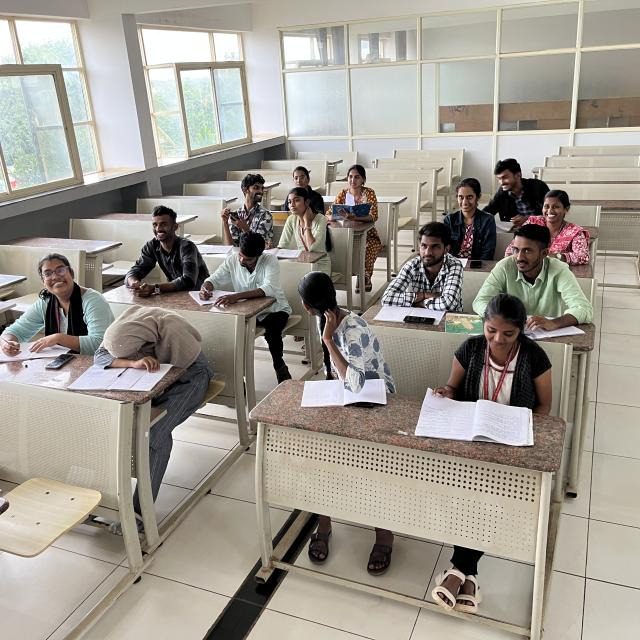Reading: (430, 291, 546, 422), (328, 160, 392, 231)
Sleeping: (92, 297, 210, 380)
Using Phone: (217, 167, 275, 239)
Writing: (192, 230, 282, 314)
